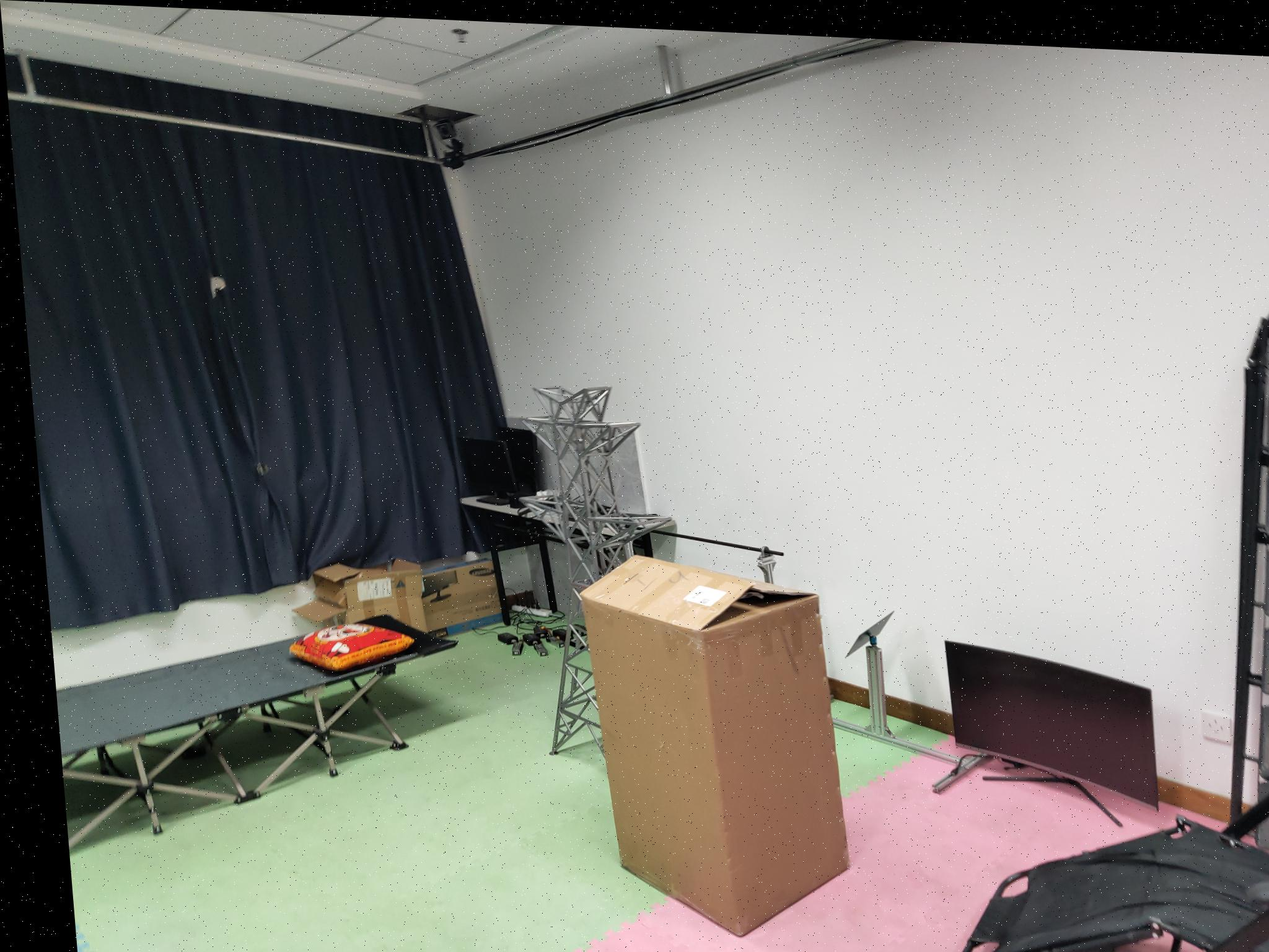tower: (507, 378, 680, 572)
